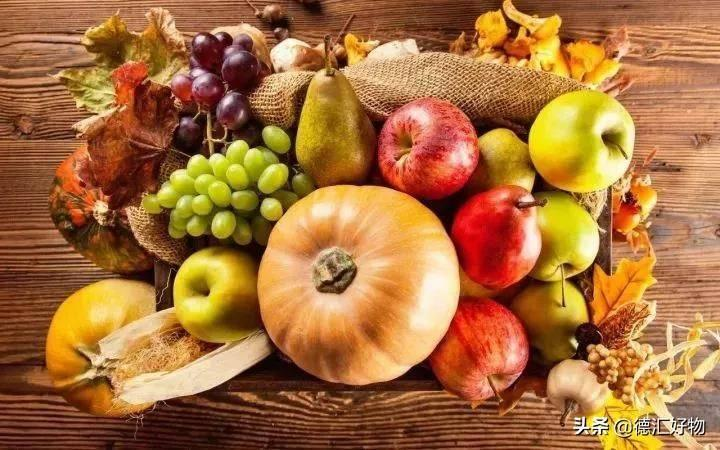apple: (425, 296, 531, 410), (374, 97, 479, 201), (173, 245, 262, 343)
